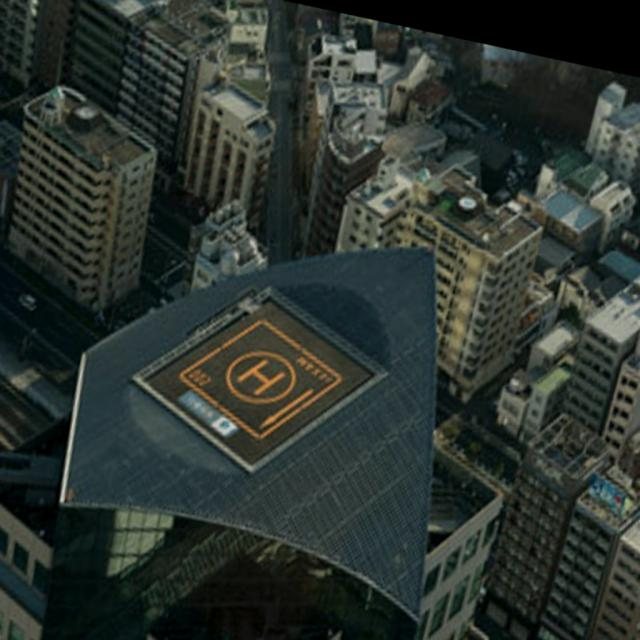helipad: (223, 348, 296, 404)
